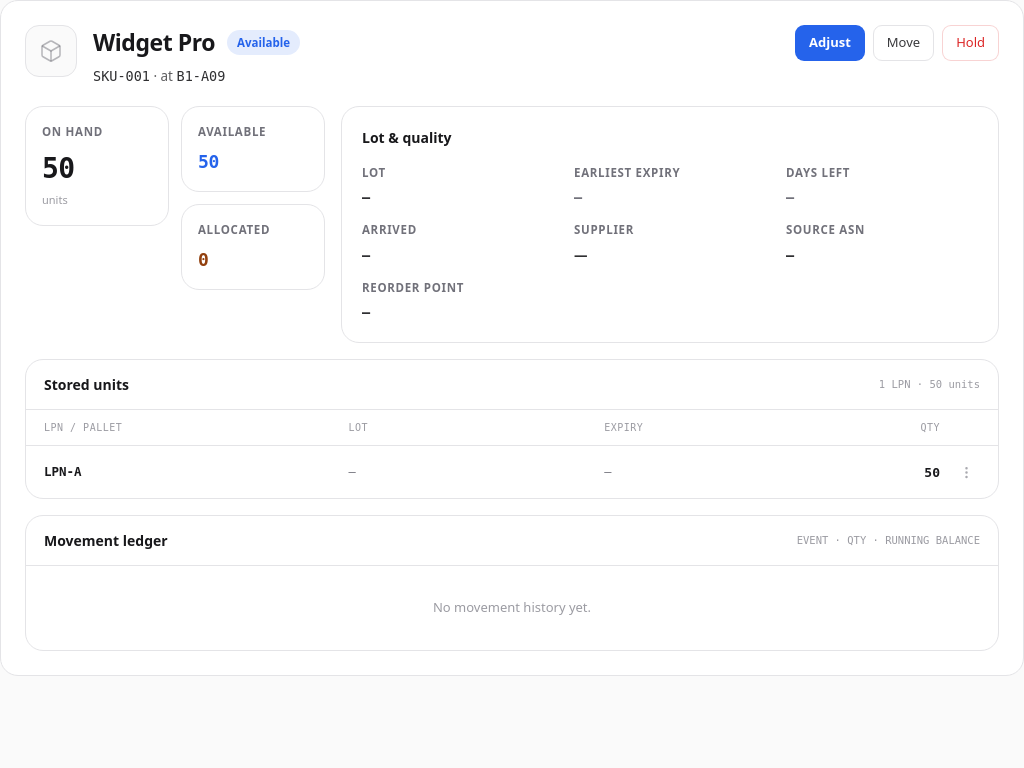
Test: InventoryDetail — unit-load actions (change owner / carrier) › offers Change owner and Mark as carrier on an LPN row for writers (not yet a carrier)
Click the button named "unit load actions" at coordinates (966, 472), box [952,458,980,486]
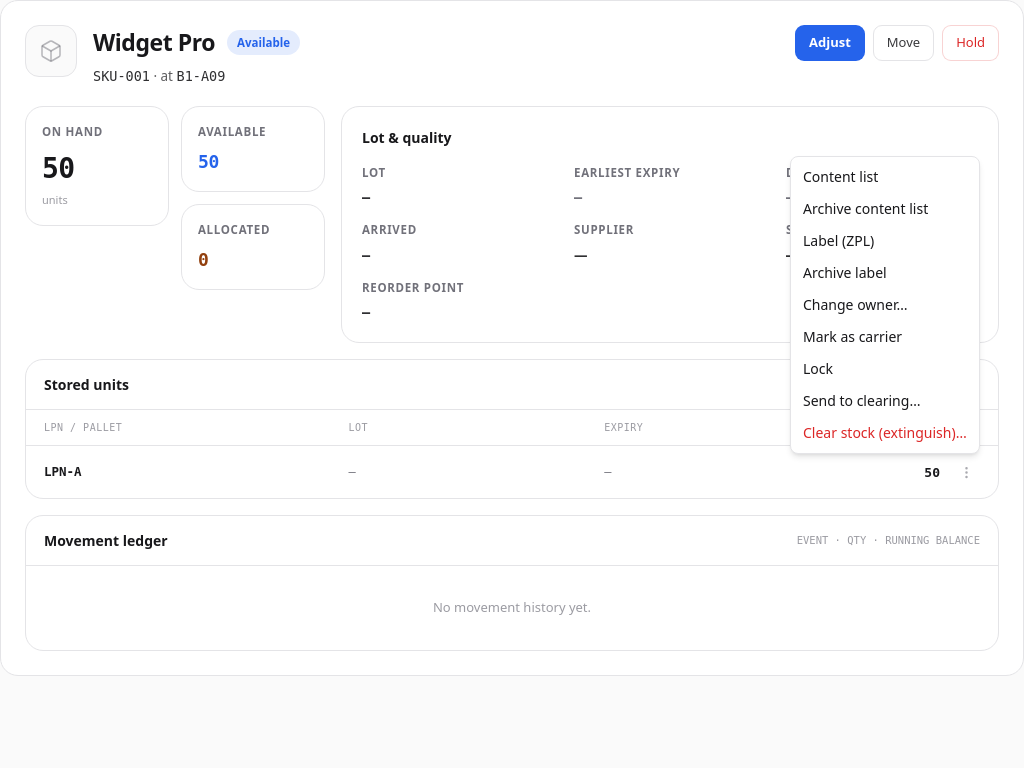
Check: the menu item "Change owner…" is shown, box [803,295,908,314]
Check: the menu item "Mark as carrier" is shown, box [803,327,902,346]
